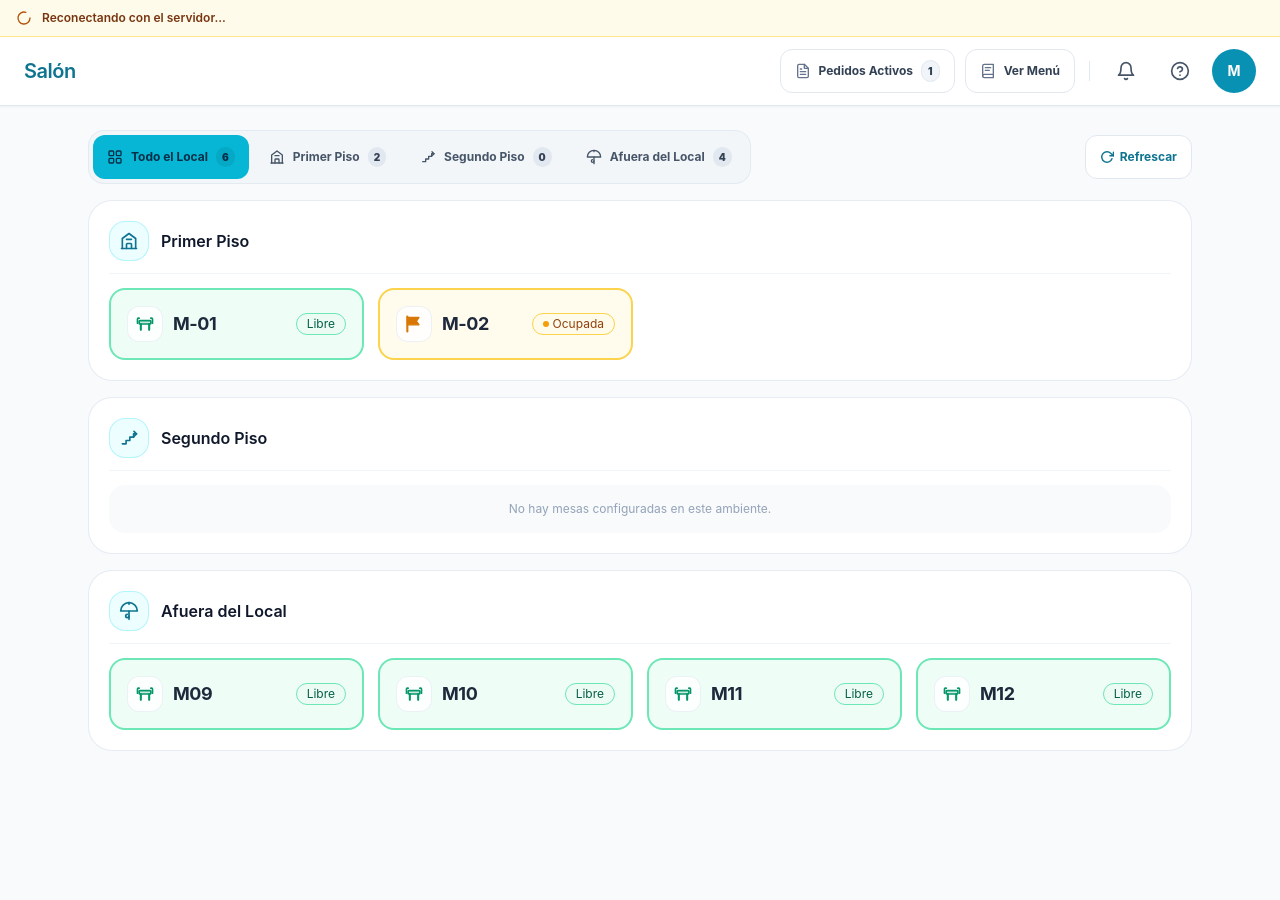
Waiter Orders Flow (Spec 003 UI) › WaiterDashboardPage: renders table list and allows interacting with tables
The width and height of the screenshot is (1280, 900).
Check: the heading "Salón" is shown, box [24,57,76,85]
Check: the text "M-01" is shown, box [173,315,216,333]
// Click on Mesa M-01 to open drawer
Click the button "M-01 Libre".
click(236, 324)  # box [109,288,364,360]
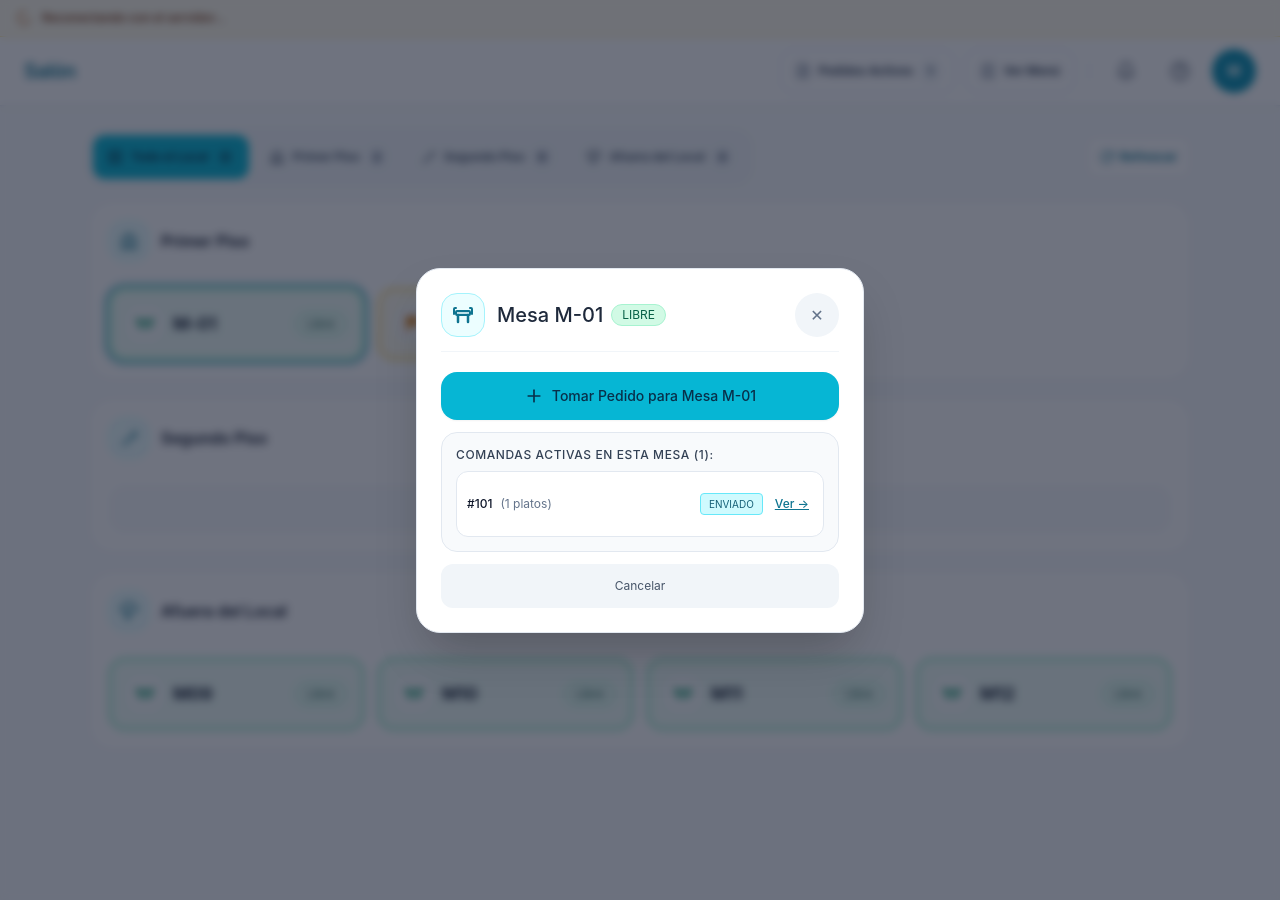
Check: the text "Tomar Pedido para Mesa M-01" is shown, box [552,386,756,406]
